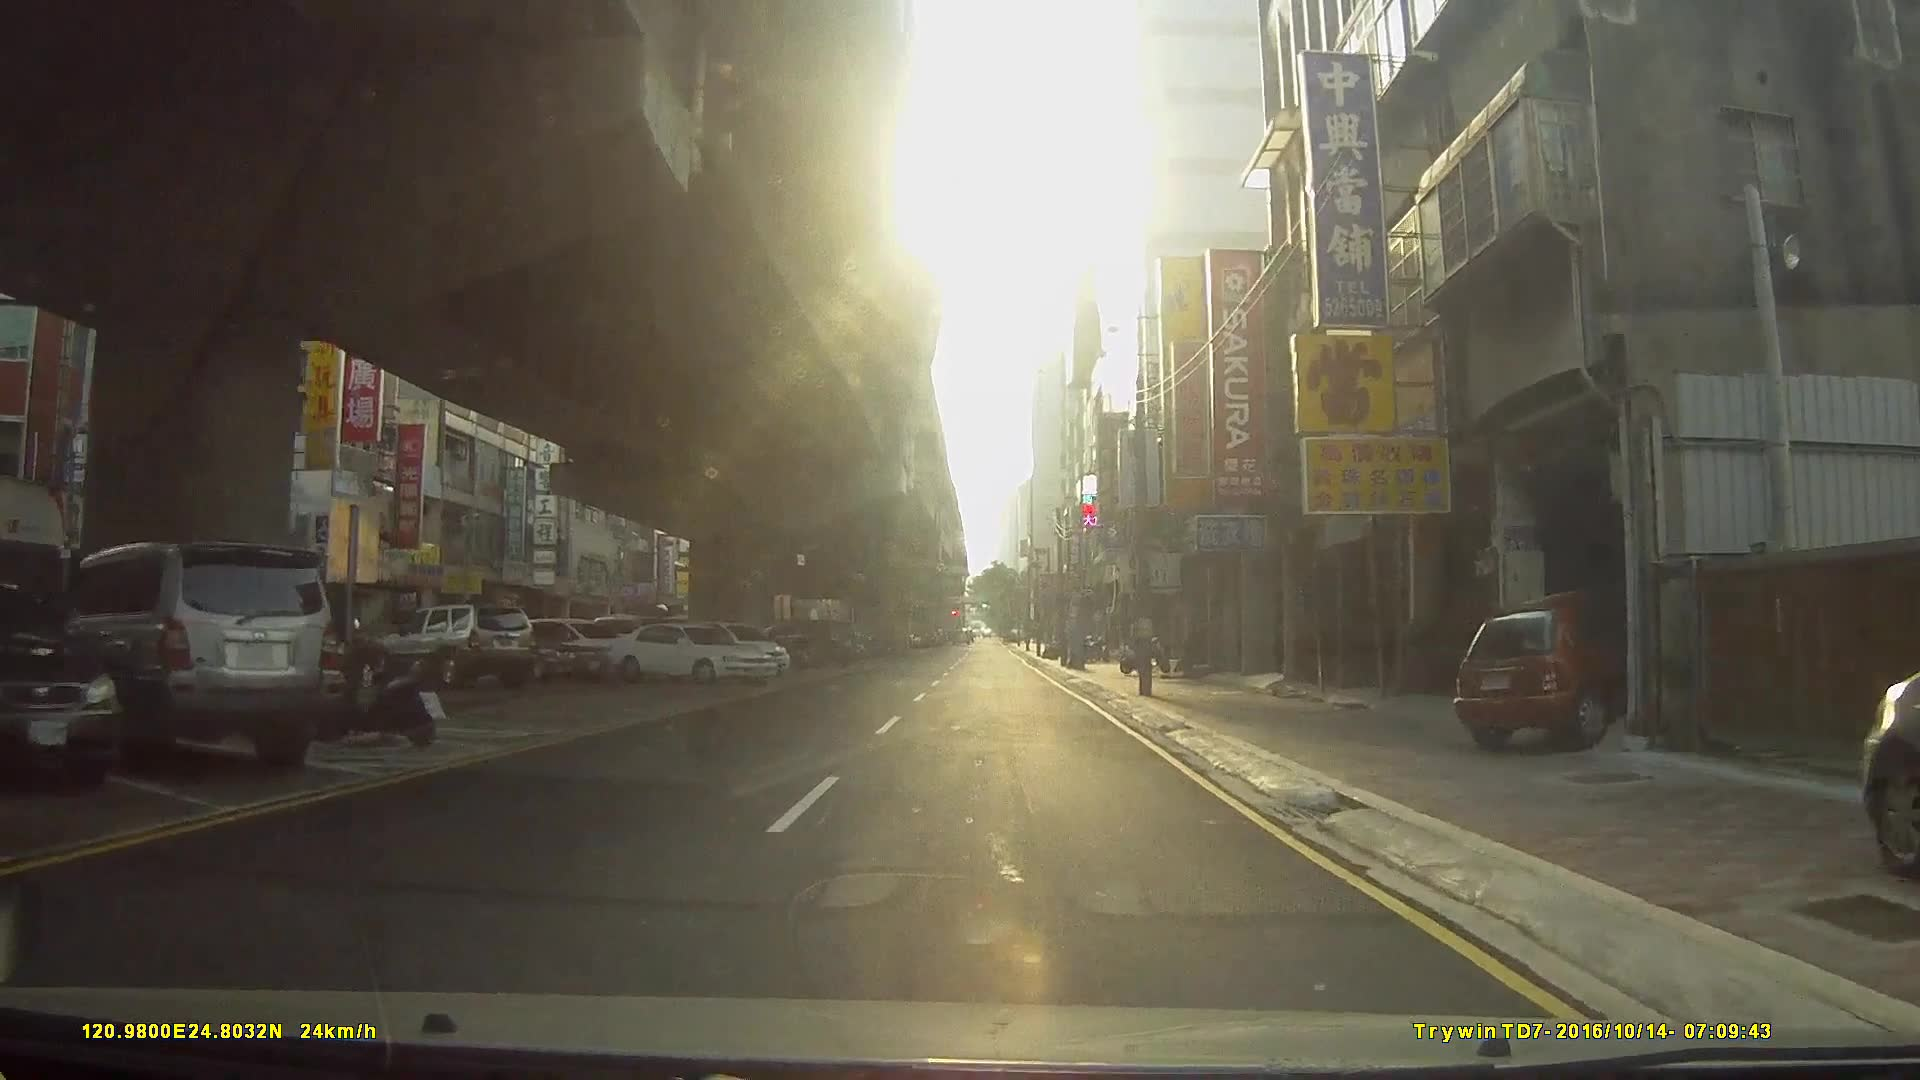vehicle: (32, 541, 344, 771), (1453, 583, 1665, 750), (0, 582, 124, 790), (369, 600, 535, 684), (436, 618, 607, 684), (605, 622, 779, 684)
